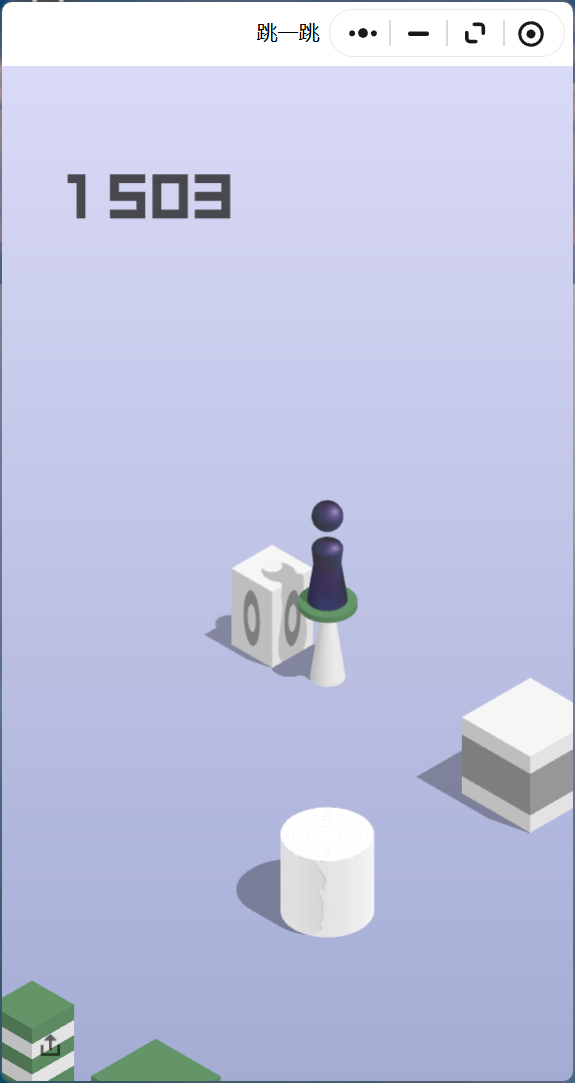piece: (312, 502, 343, 610)
target: (232, 544, 315, 592)
